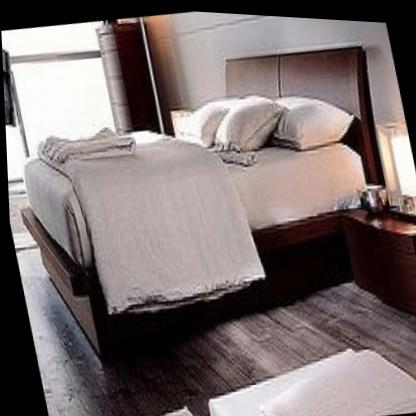Bed: (1, 22, 416, 382)
